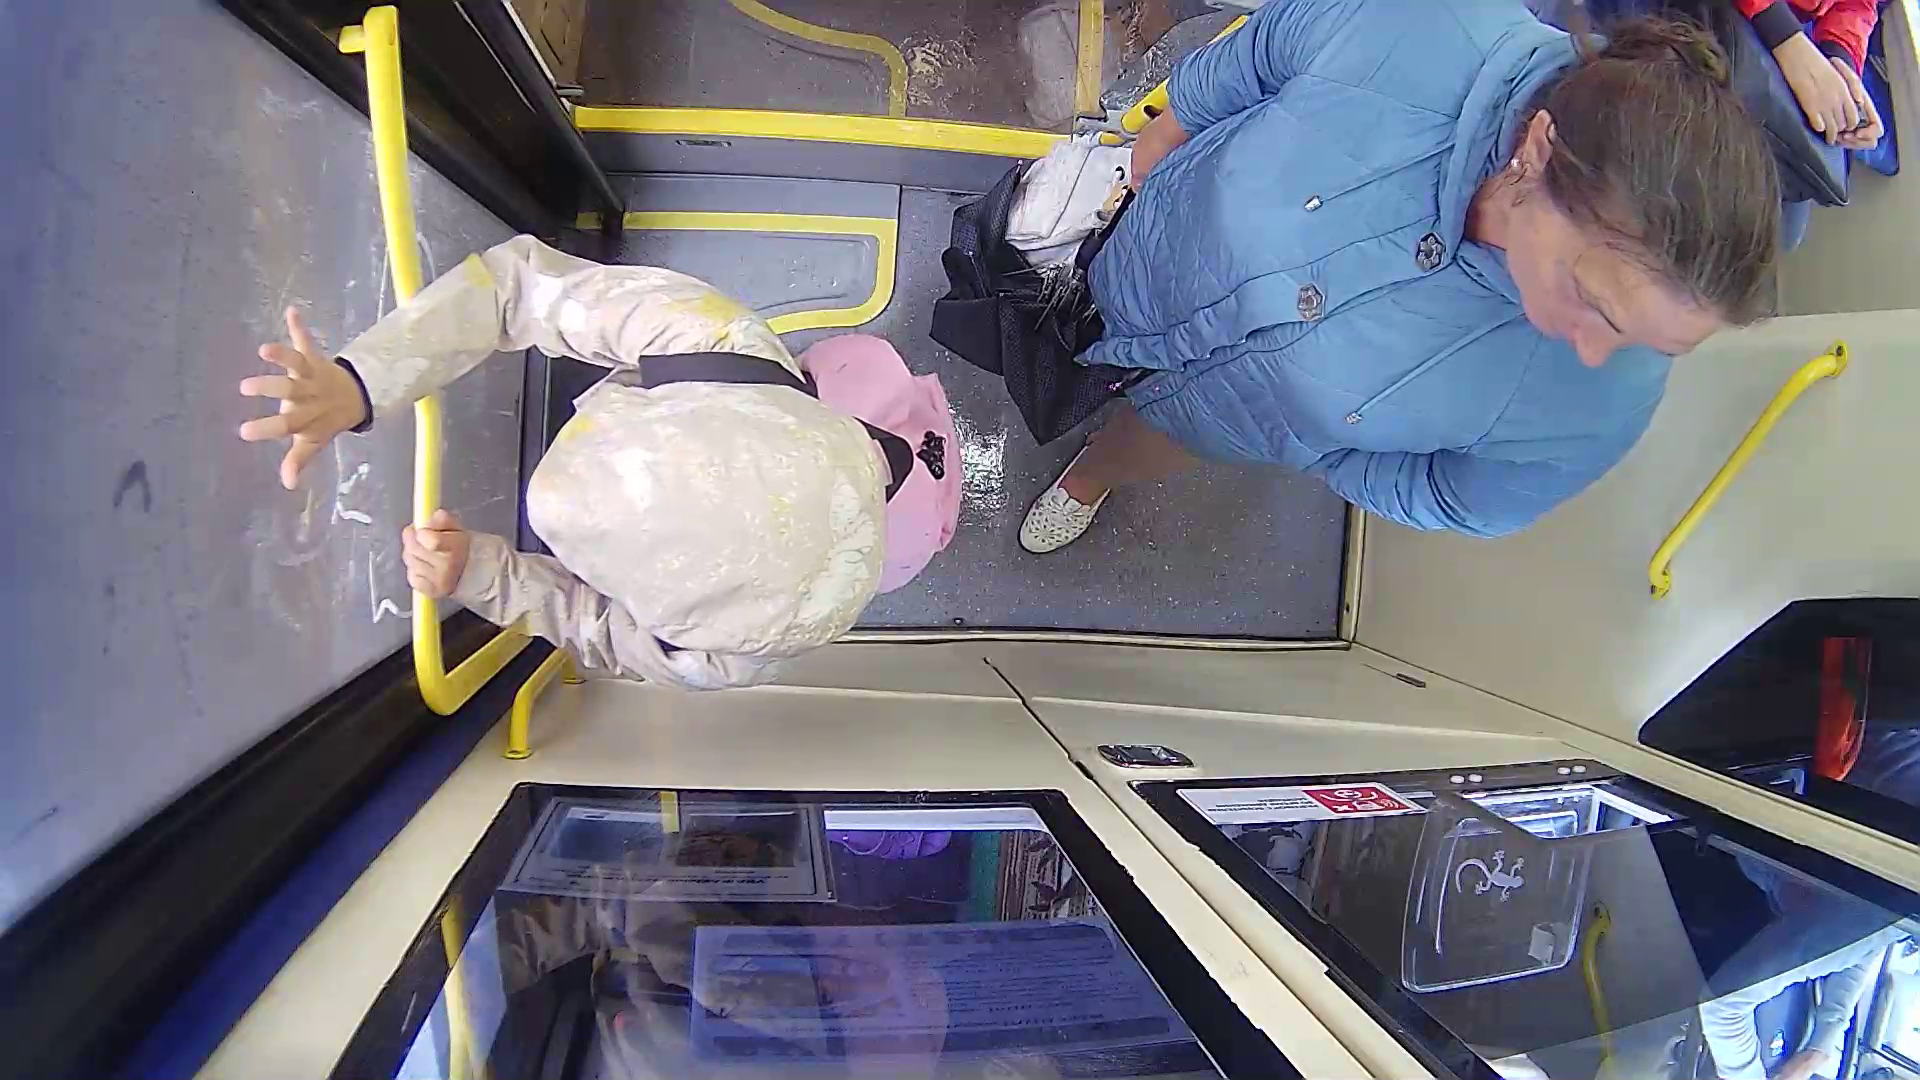person: (948, 27, 1757, 592), (319, 253, 939, 709)
